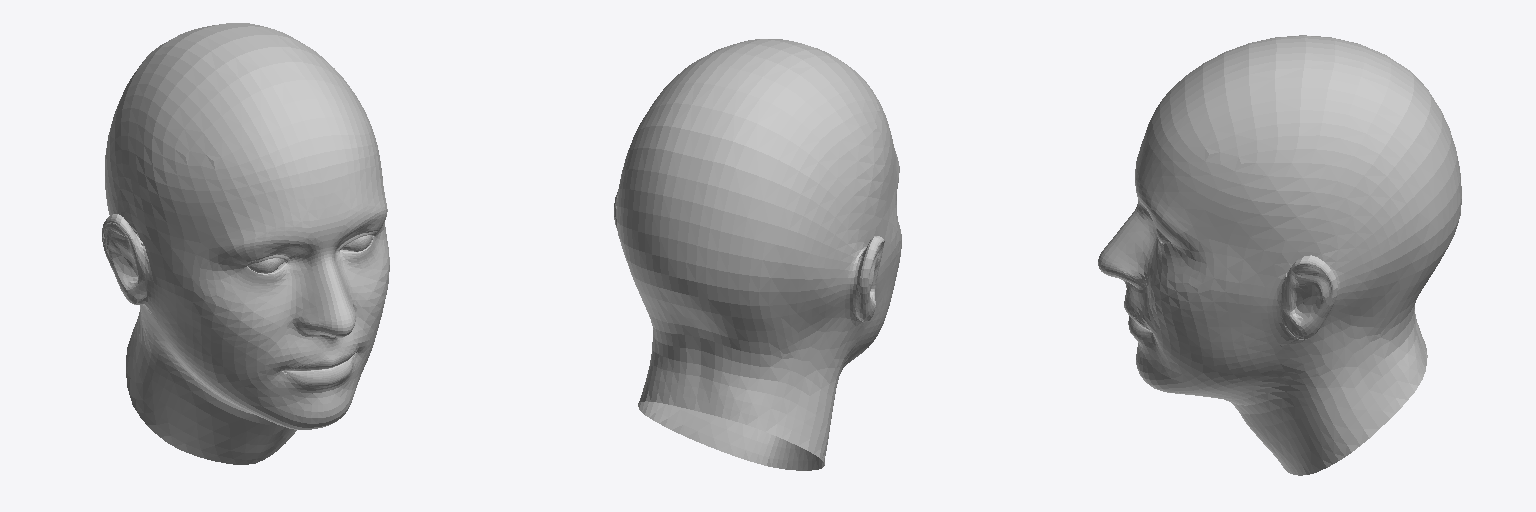
File: head.obj
3 renders of one model, left to right at view 1: azimuth 30°, elevation 25°; view 2: azimuth 150°, elevation 25°; view 3: azimuth 270°, elevation 25°, orthographic.
Parts seen in each view (by area): view 1: polySurface1; view 2: polySurface1; view 3: polySurface1.
Boxes of the visible parts, x1=… form: polySurface1: x1=102, y1=23, x2=389, y2=464; polySurface1: x1=614, y1=39, x2=901, y2=470; polySurface1: x1=1098, y1=35, x2=1461, y2=475.
Bounding box in the file's own units: 167 × 259 × 205.